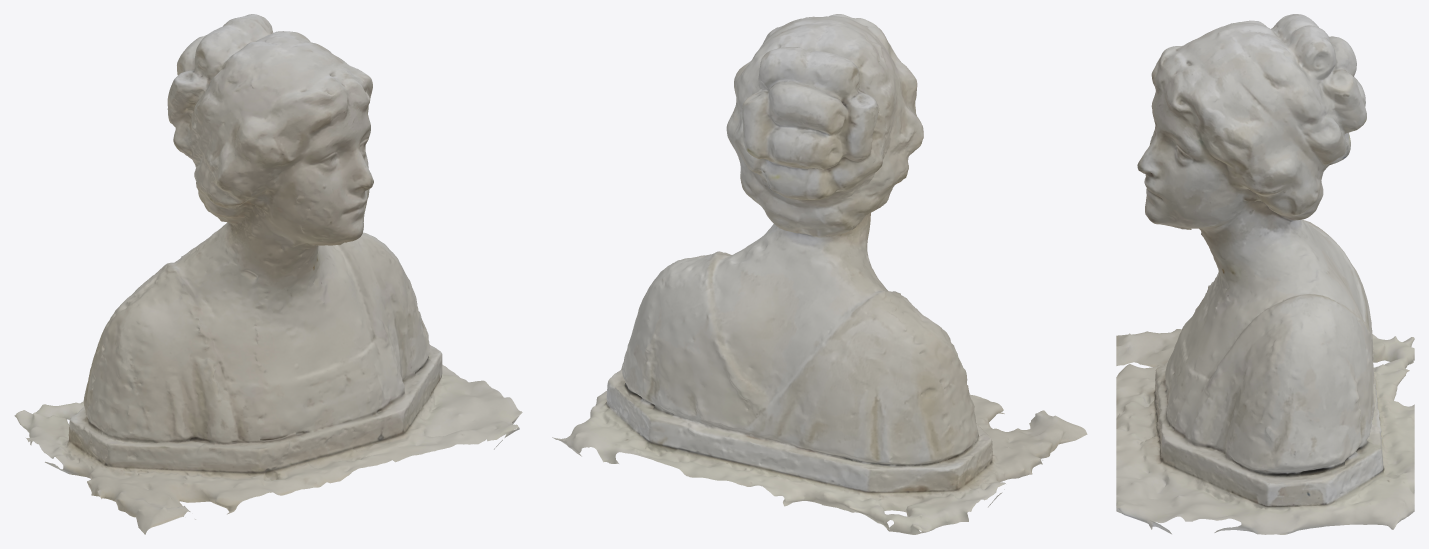
File: busto1.glb
3 renders of one model, left to right at view 1: azimuth 30°, elevation 25°; view 2: azimuth 150°, elevation 25°; view 3: azimuth 270°, elevation 25°, orthographic.
Parts seen in each view (by area): view 1: Object_4, Object_5; view 2: Object_4, Object_5; view 3: Object_4, Object_5.
Part boxes in pixels (bbox=[...]): Object_4: bbox=[70, 14, 521, 494]; Object_5: bbox=[14, 89, 522, 534]; Object_4: bbox=[598, 14, 991, 511]; Object_5: bbox=[552, 36, 1087, 534]; Object_4: bbox=[1116, 14, 1414, 528]; Object_5: bbox=[1116, 48, 1414, 534].
Size of the model in its own units: 0.295 by 0.284 by 0.1887.
Materials: 1 (1 with a texture image).
